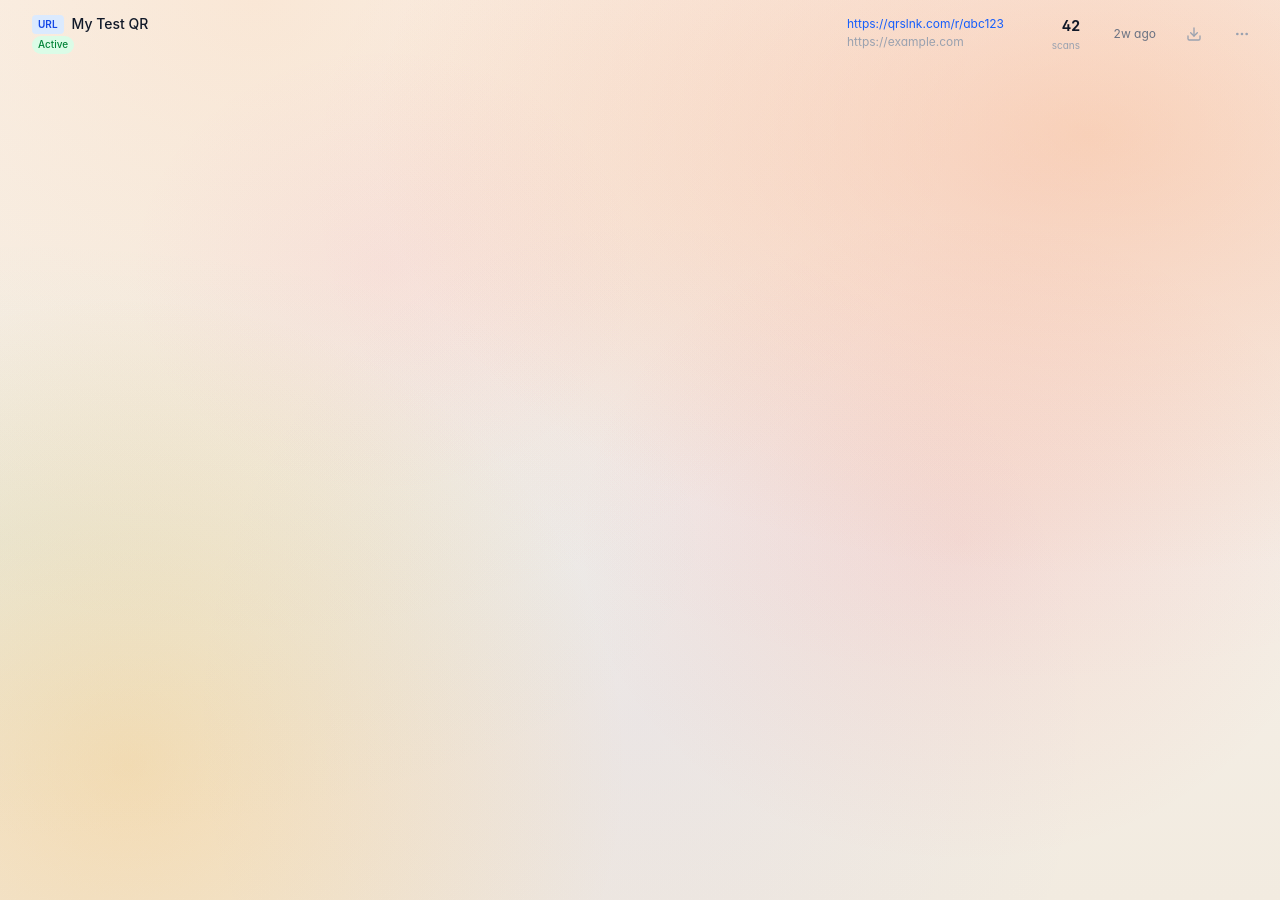
Test case: QRCodeRow › action buttons › shows dropdown menu on more actions click
This screenshot has width=1280, height=900.
Click the button named "More actions" at (1242, 34), box [1220,12,1264,56]
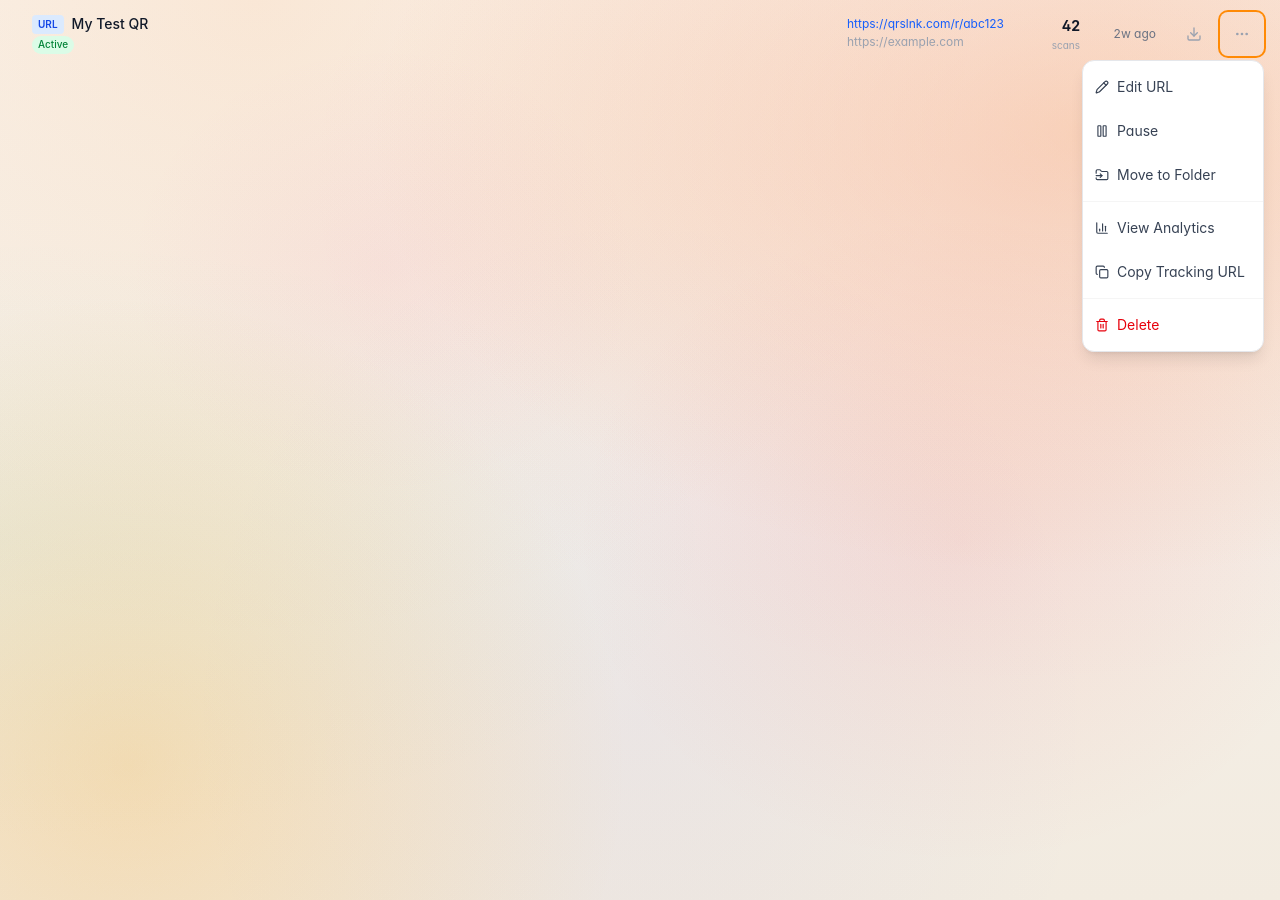
Result: the button "Edit URL" is shown at [1083,65,1263,109]
Result: the button "Delete" is shown at [1083,303,1263,347]
